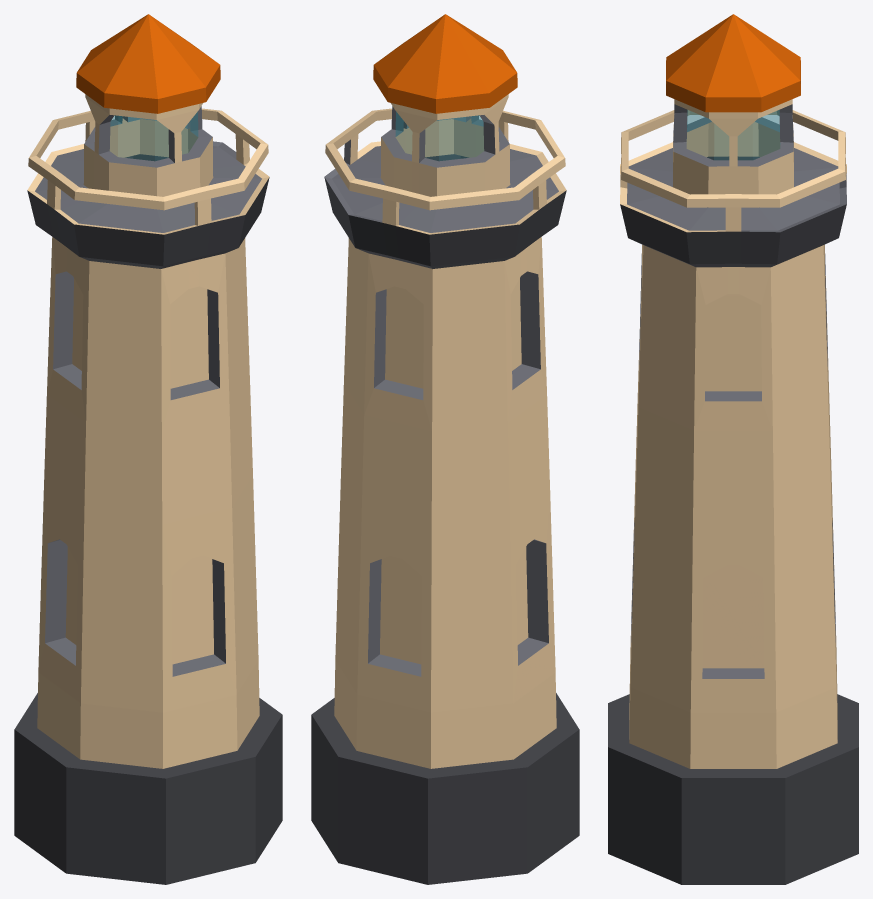
The model's file is orange_lighthouse.fbx.
3 views of the same model, side by side, from view 1: azimuth 30°, elevation 25°; view 2: azimuth 150°, elevation 25°; view 3: azimuth 270°, elevation 25° (orthographic).
Parts seen in each view (by area): view 1: Cylindre; view 2: Cylindre; view 3: Cylindre.
Boxes of the visible parts, x1,y1,x2,y2 form: Cylindre: (14, 14, 282, 884); Cylindre: (311, 14, 579, 884); Cylindre: (608, 14, 858, 884).
Bounding box in the file's own units: 184 × 661 × 184.
